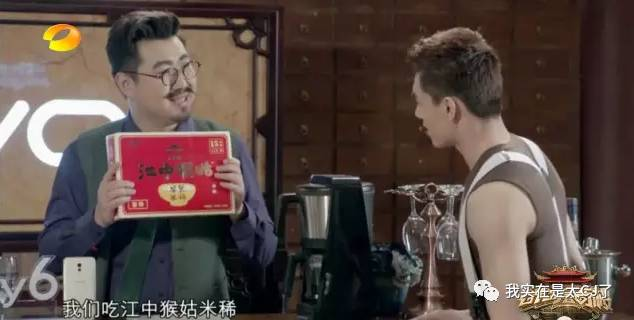box: (105, 129, 236, 216)
